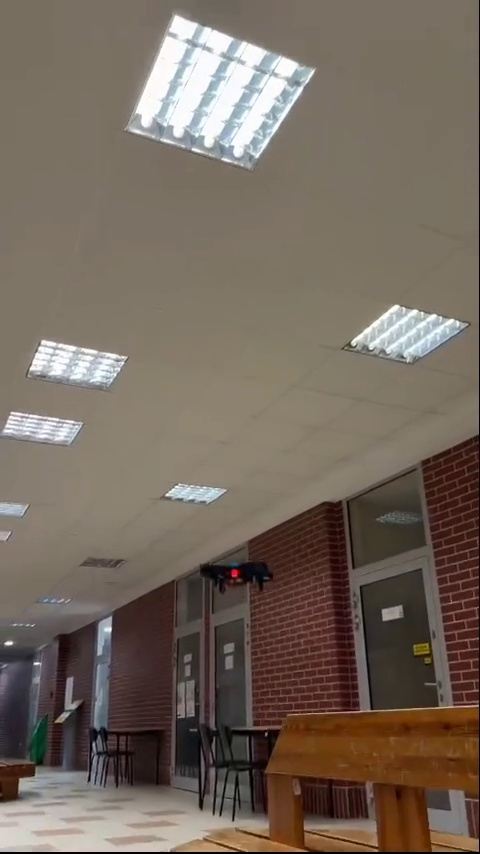drone: (198, 562, 276, 596)
